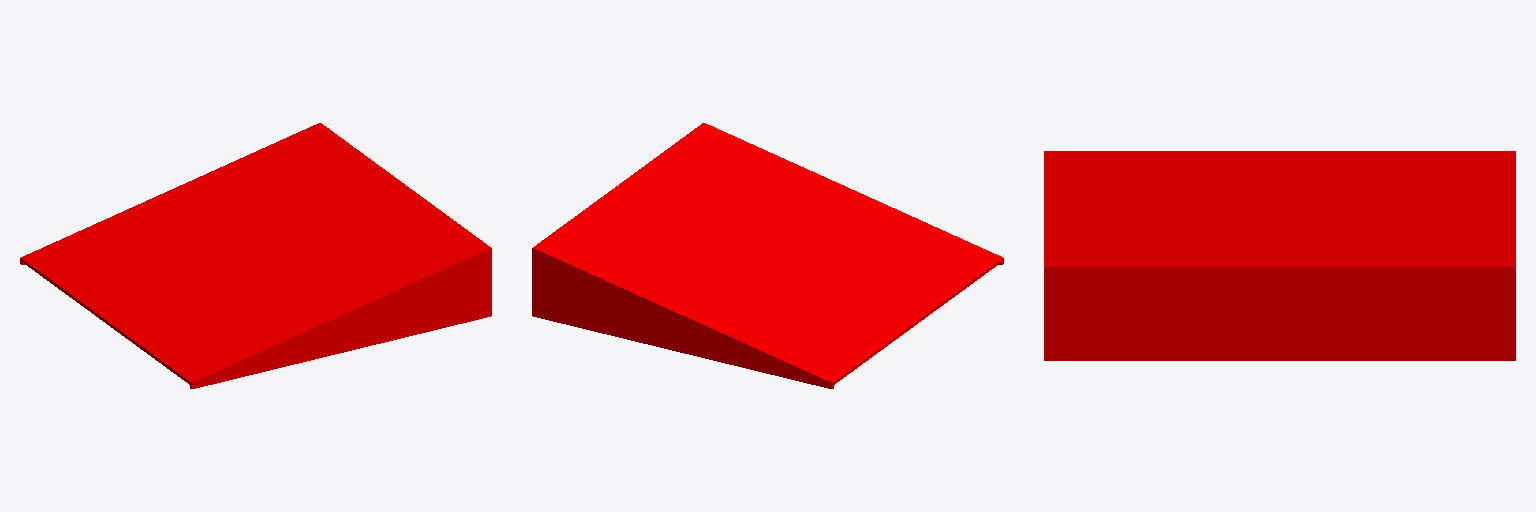
URDF robot description (terrain_block):
<?xml version="1.0" ?>
<robot name="terrain_block">
  
  <link name="world">
  </link>
  
  <link name="block">
    <contact>
      <lateral_friction value="1.0"/>
      <rolling_friction value="0.0"/>
      <contact_cfm value="0.0"/>
      <contact_erp value="1.0"/>
    </contact>
    <visual>
		<origin xyz="0 0 0" rpy="0 0 0" />
		<geometry>
			<mesh filename="./Terrain_Test_Block_meters.obj" scale="10 10 10" />
		</geometry>
		<material name="texture">
			<color rgba="1.0 0 0 1.0" />
		</material>
	</visual>
	<collision>
		<geometry>
			<mesh filename="./Terrain_Test_Block_meters.obj" scale="10 10 10" />
		</geometry>
	<origin xyz="0 0 0" rpy="0 0 0" /></collision>
	<inertial>
		<mass value="1000.0" />
		<inertia ixx="1.0" ixy="0.0" ixz="0.0" iyy="1.0" iyz="0.0" izz="1.0" />
	</inertial>
	</link>
  
  <joint name="ramp_to_plane" type="fixed">
    <parent link="world"/>
    <child link="block"/>
    <origin xyz="0 0 0" rpy="1.57079 0 0"/>
  </joint>

</robot>

--- Facts derived from the render (not from the file) ---
The picture shows the robot from 3 angles, left to right: view 1: azimuth 30°, elevation 25°; view 2: azimuth 150°, elevation 25°; view 3: azimuth 270°, elevation 25°; orthographic projection.
Robot: terrain_block — 2 links, 1 joints (1 fixed); root link world; default pose: all joints at 0.
Links seen in each view (by area): view 1: block; view 2: block; view 3: block.
Boxes of the visible links, x1,y1,x2,y2 form: block: (20, 123, 491, 388); block: (532, 123, 1003, 388); block: (1044, 151, 1515, 360).
Size in the robot's own frame: 6.16 by 6.1 by 1.35 metres.
1 mesh visuals loaded from 1 distinct referenced files (1 OBJ).